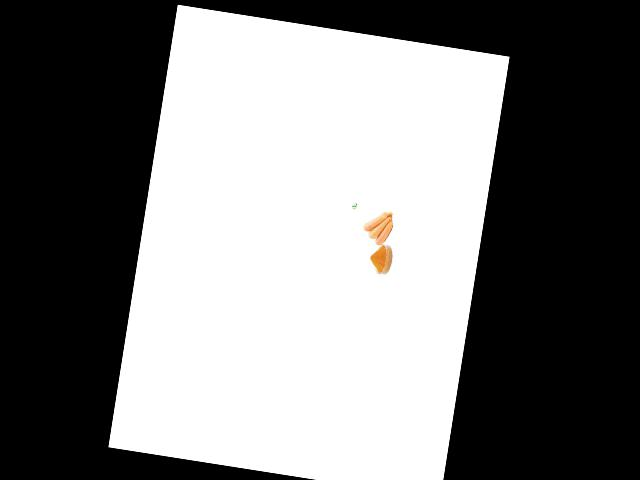carrot: (375, 217, 396, 247)
